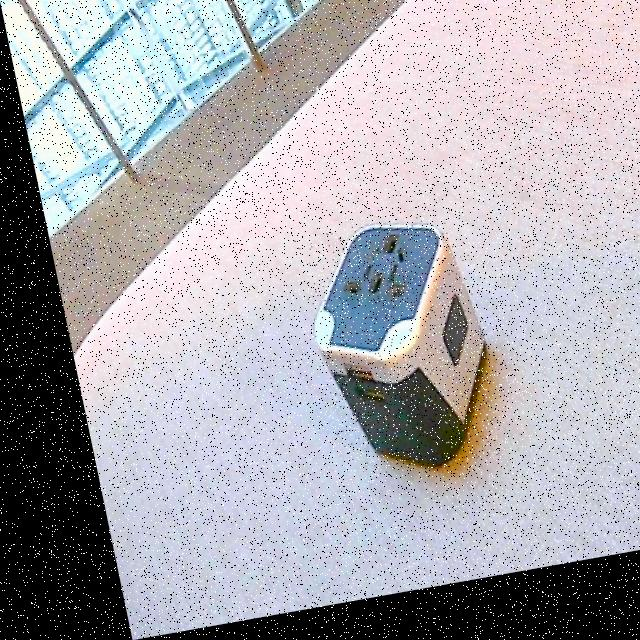adapter: (281, 222, 487, 492)
